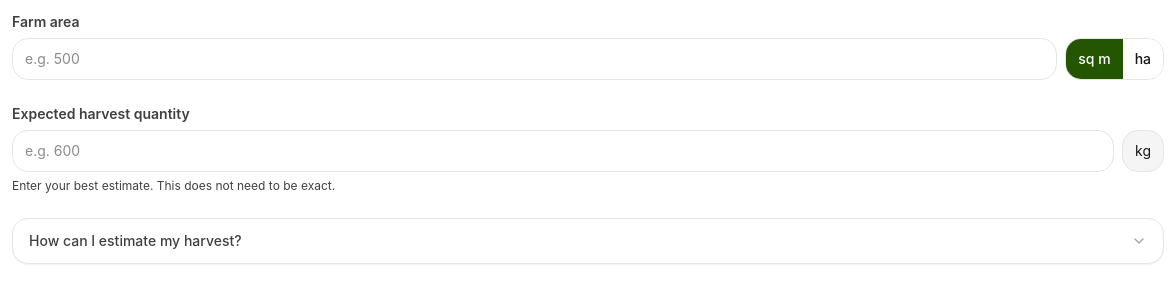
Test: Step 2 farm area unit conversion (sq m <-> ha) › shows the equivalent in the other unit and converts the typed value on unit switch
The image size is (1176, 303).
In the number field with placeholder "e.g. 500": [535, 59] box [12,38,1057,80], type "500"
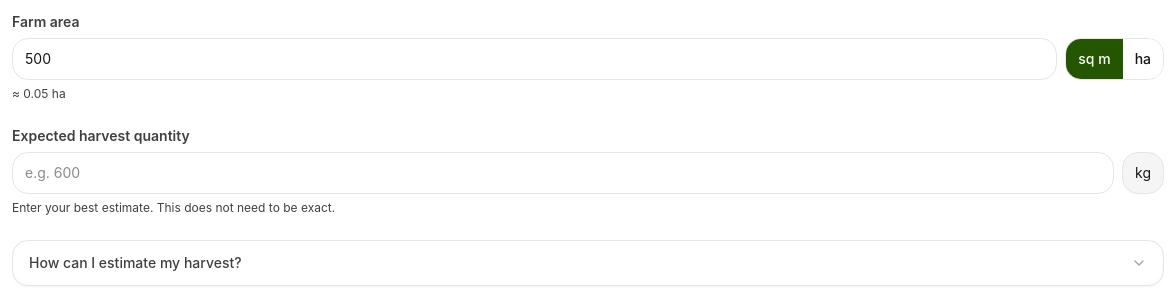
Now the text "≈ 0.05 ha" is shown, box [12,86,66,101]
Click the button "ha": [1143, 59] box [1123,39,1163,79]
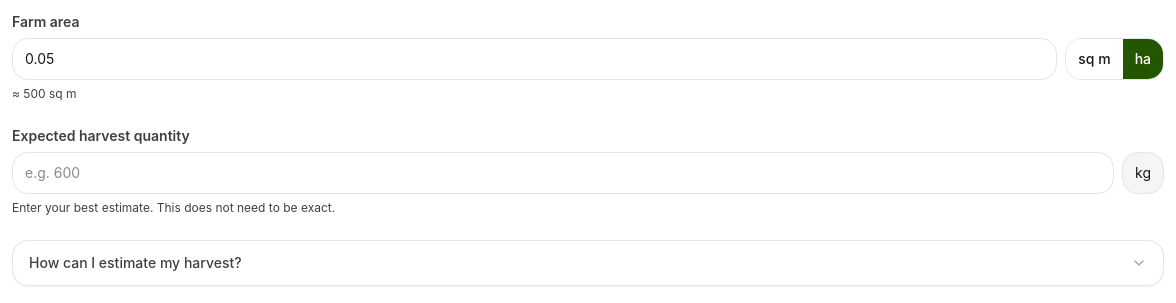
Now the text "≈ 500 sq m" is shown, box [12,86,76,101]
Replace the text in the number field with placeholder "e.g. 500" with "0.5": [535, 59] box [12,38,1057,80]
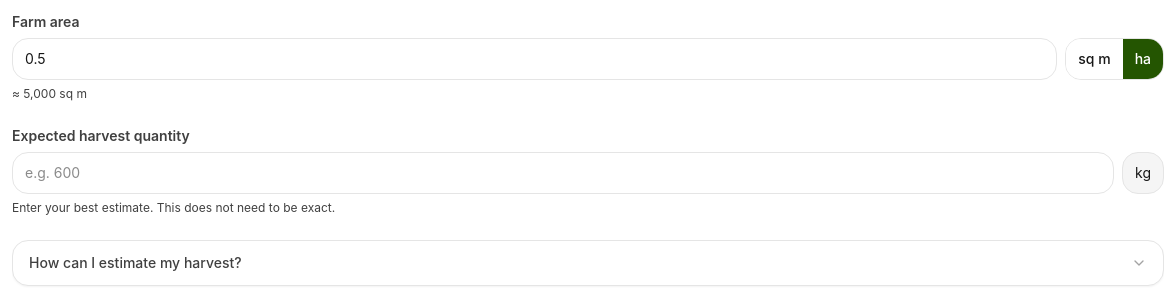
Now the text "≈ 5,000 sq m" is shown, box [12,86,87,101]
